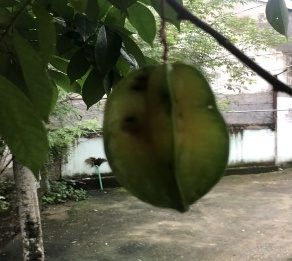Khe: (104, 61, 235, 214)
